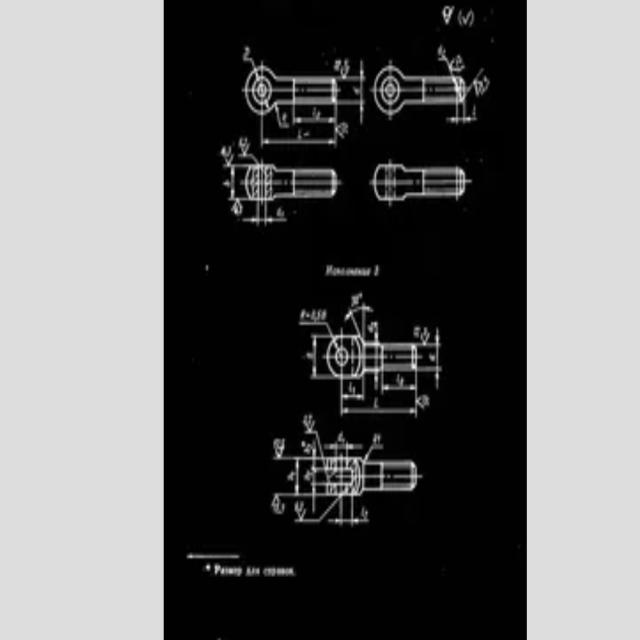marking_line: (339, 379, 419, 418), (260, 115, 338, 149), (294, 497, 374, 527), (273, 458, 313, 497), (242, 202, 286, 227), (292, 107, 340, 126), (222, 161, 244, 202), (345, 304, 374, 333), (381, 374, 419, 393), (339, 100, 365, 126), (419, 363, 444, 390), (448, 105, 478, 126), (323, 440, 365, 455), (338, 62, 365, 85), (469, 66, 487, 96), (349, 500, 369, 527), (304, 429, 323, 455), (419, 328, 441, 349), (340, 380, 365, 398), (301, 319, 331, 333), (329, 500, 345, 526), (441, 51, 458, 75), (365, 444, 385, 459)
numeric: (374, 266, 379, 279)
